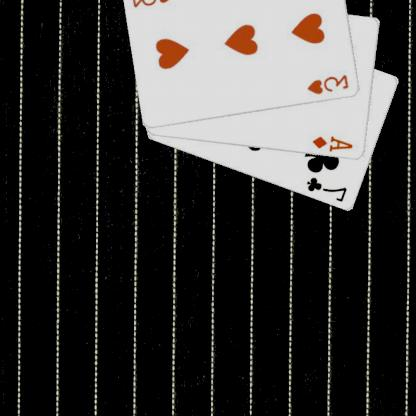3H: (307, 72, 352, 96), (132, 0, 178, 9)
7C: (306, 174, 350, 204)
AD: (312, 134, 356, 154)
